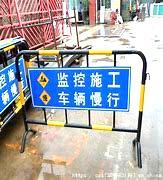sign: (15, 51, 145, 133)
